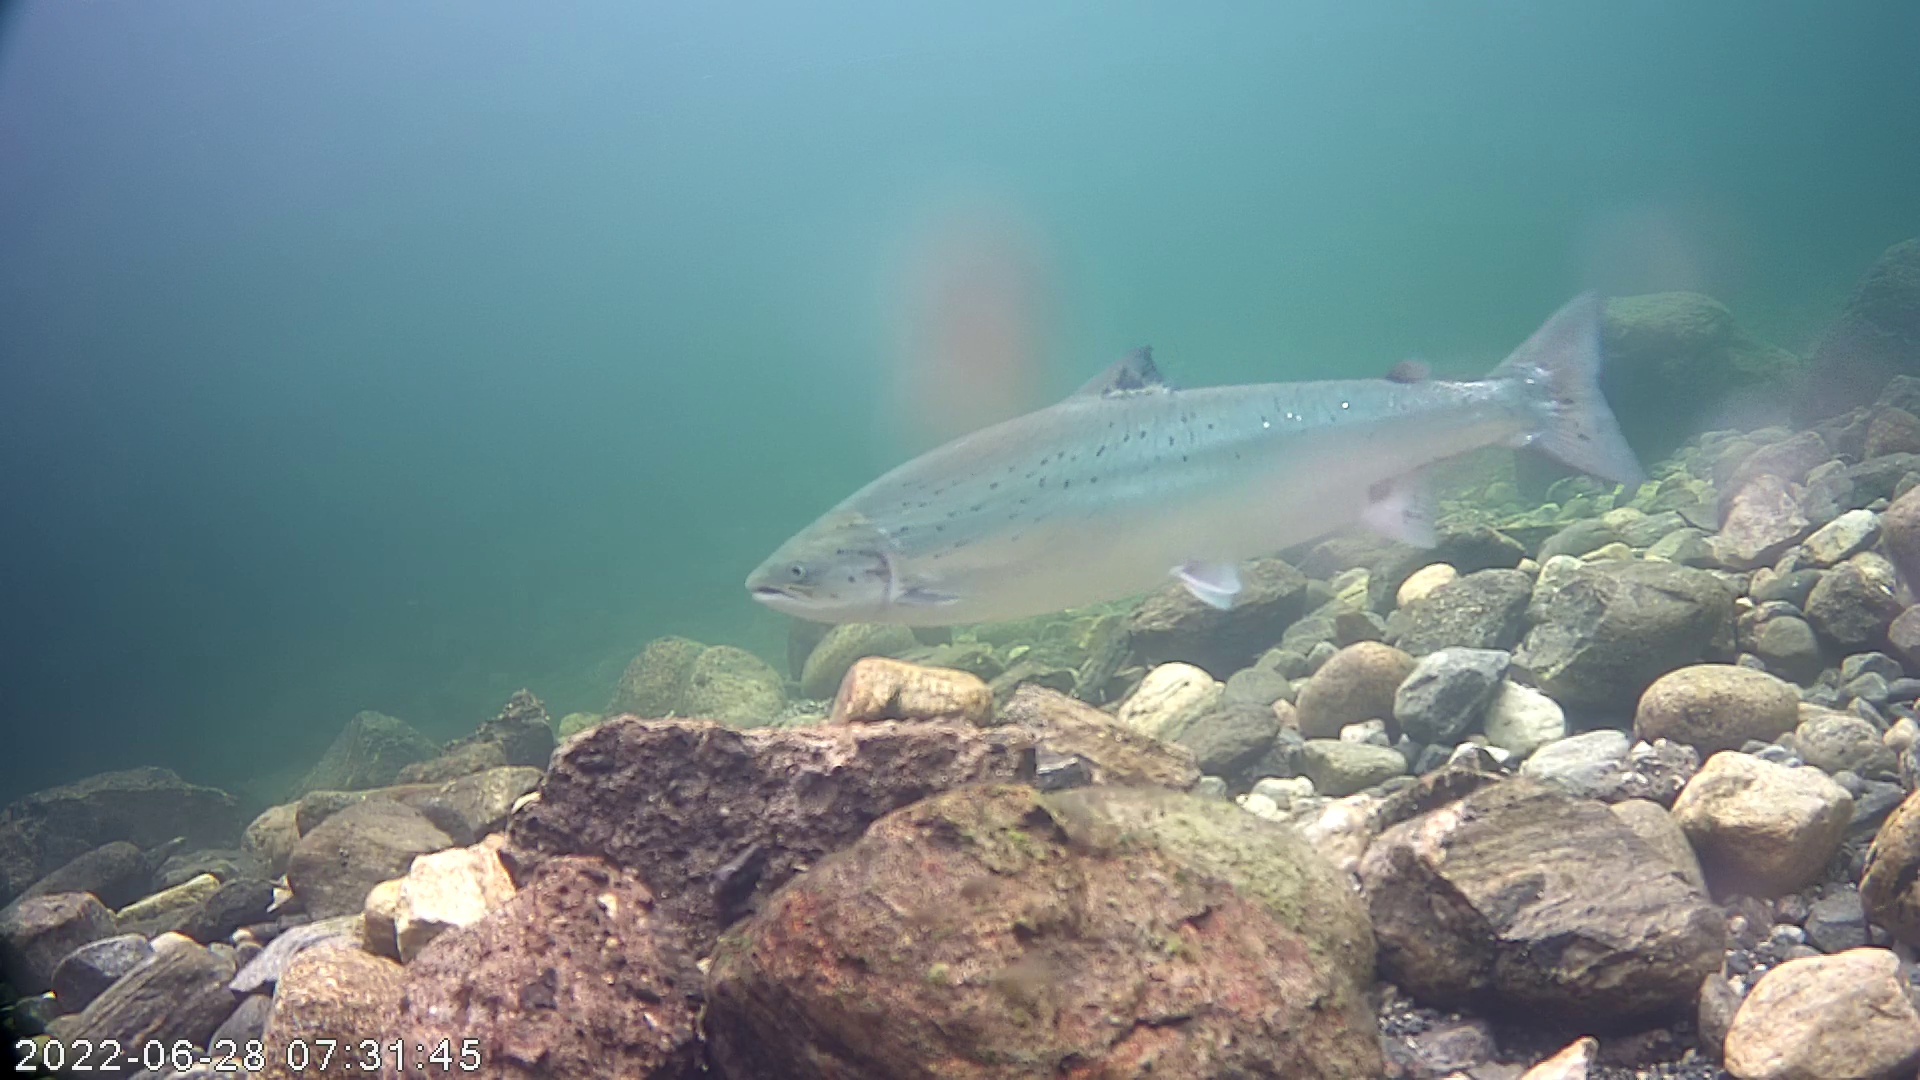salmon: (748, 225, 1655, 673)
